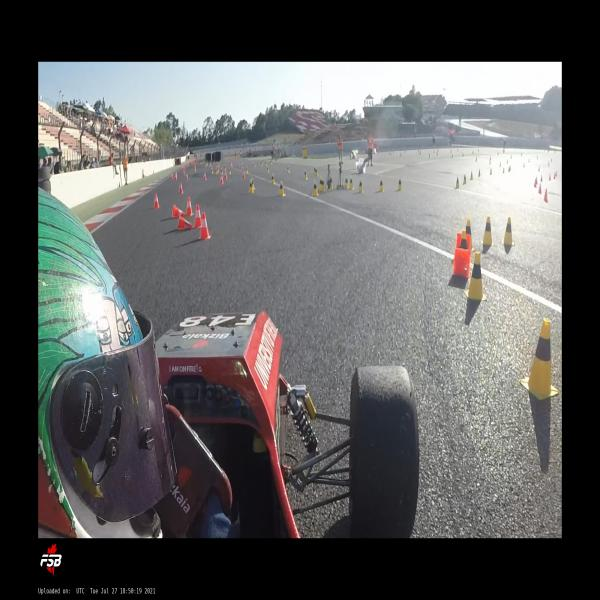orange_cone: (454, 248, 470, 278), (200, 212, 212, 240), (178, 213, 192, 230), (457, 234, 471, 250), (194, 204, 203, 228), (185, 196, 194, 216), (173, 204, 184, 218), (153, 193, 160, 208), (178, 182, 184, 194), (544, 189, 548, 202), (219, 175, 224, 184), (242, 171, 246, 180), (538, 183, 541, 194), (203, 172, 207, 180), (174, 173, 178, 180), (224, 172, 228, 179), (534, 178, 537, 187), (230, 162, 233, 169), (536, 175, 538, 185), (171, 173, 174, 179), (540, 174, 542, 182), (549, 173, 551, 181), (186, 173, 188, 180), (523, 162, 525, 168), (194, 168, 196, 174), (538, 166, 540, 171), (183, 170, 185, 175), (556, 171, 557, 177), (490, 155, 491, 161), (507, 158, 508, 164), (554, 174, 555, 179)
yellow_cone: (518, 318, 560, 400), (464, 253, 486, 300), (462, 218, 473, 250), (482, 216, 493, 248), (502, 217, 514, 245), (459, 230, 468, 249), (278, 180, 286, 196), (312, 180, 319, 196), (248, 180, 254, 193), (397, 178, 403, 191), (455, 176, 460, 190), (358, 180, 363, 194), (379, 178, 384, 192), (349, 176, 354, 189), (271, 173, 276, 185), (329, 175, 333, 189), (321, 178, 325, 191), (251, 180, 255, 192), (345, 178, 349, 190), (462, 173, 466, 185), (314, 167, 318, 177), (470, 170, 474, 180), (304, 170, 308, 180), (477, 168, 481, 177), (266, 166, 270, 174), (320, 178, 322, 191), (287, 166, 290, 173), (215, 167, 218, 174), (221, 167, 223, 176), (246, 167, 248, 175), (490, 167, 492, 175), (229, 168, 231, 175), (502, 167, 504, 174), (499, 160, 501, 167), (211, 167, 213, 174), (508, 166, 510, 172), (217, 166, 219, 172), (475, 156, 477, 162), (270, 160, 272, 166), (489, 159, 491, 164), (254, 163, 256, 168), (265, 161, 267, 166), (242, 163, 244, 168), (225, 165, 226, 172), (510, 164, 511, 170), (261, 161, 262, 167), (452, 154, 453, 158)
